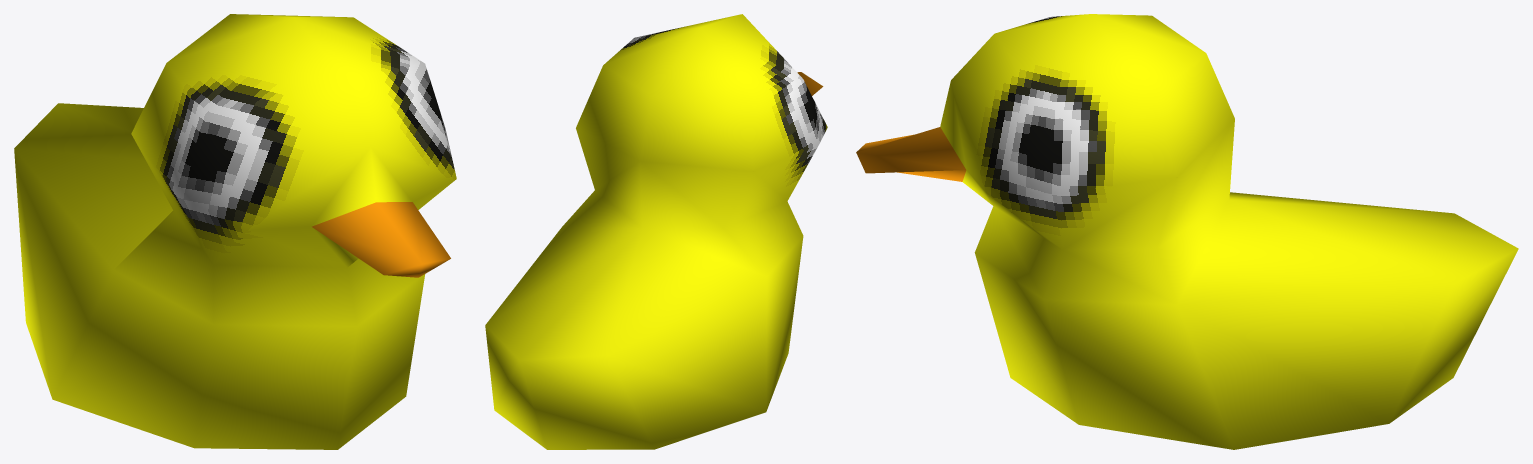
File: Duck_mesh.obj
3 views of the same model, side by side, from view 1: azimuth 30°, elevation 25°; view 2: azimuth 150°, elevation 25°; view 3: azimuth 270°, elevation 25° (orthographic). The views are drawn at different scales.
Visible parts, largest first — view 1: Mesh_0283; view 2: Mesh_0283; view 3: Mesh_0283.
Part boxes in pixels (x1,y1,x2,y2): Mesh_0283: (14, 14, 456, 449); Mesh_0283: (485, 14, 827, 449); Mesh_0283: (856, 14, 1518, 449).
Bounding box in the file's own units: 3.16 × 4.15 × 6.14.
Materials: 1 (1 with a texture image).
